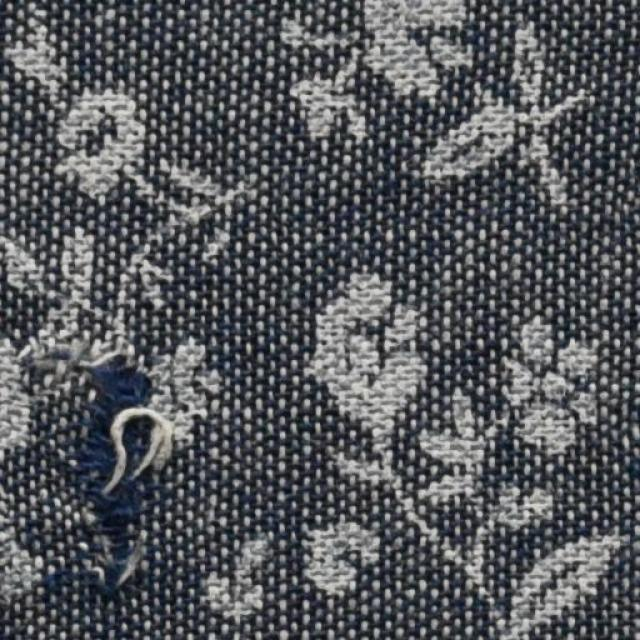Snag: (61, 330, 181, 587)
